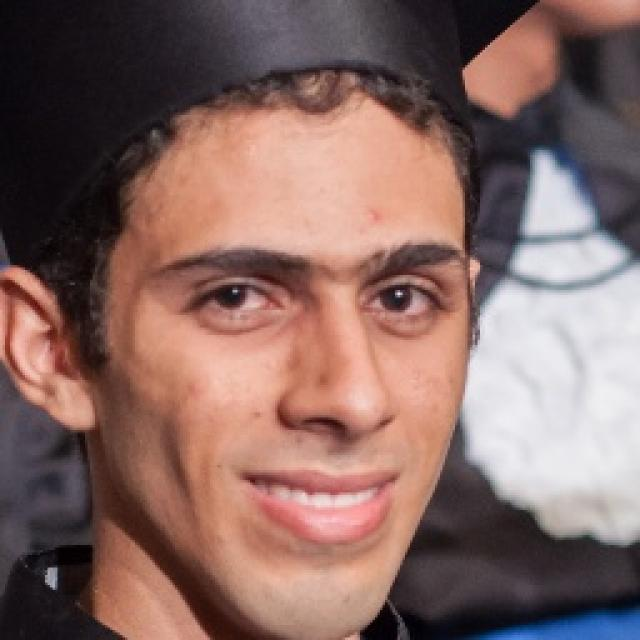earlobe: (0, 266, 96, 431)
